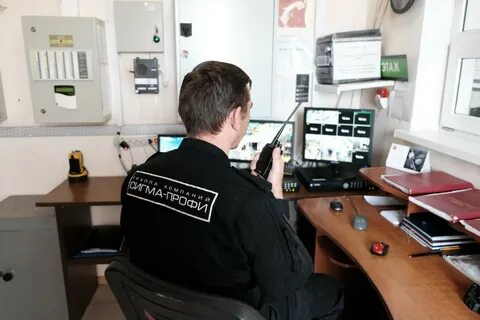awake: (119, 60, 347, 320)
